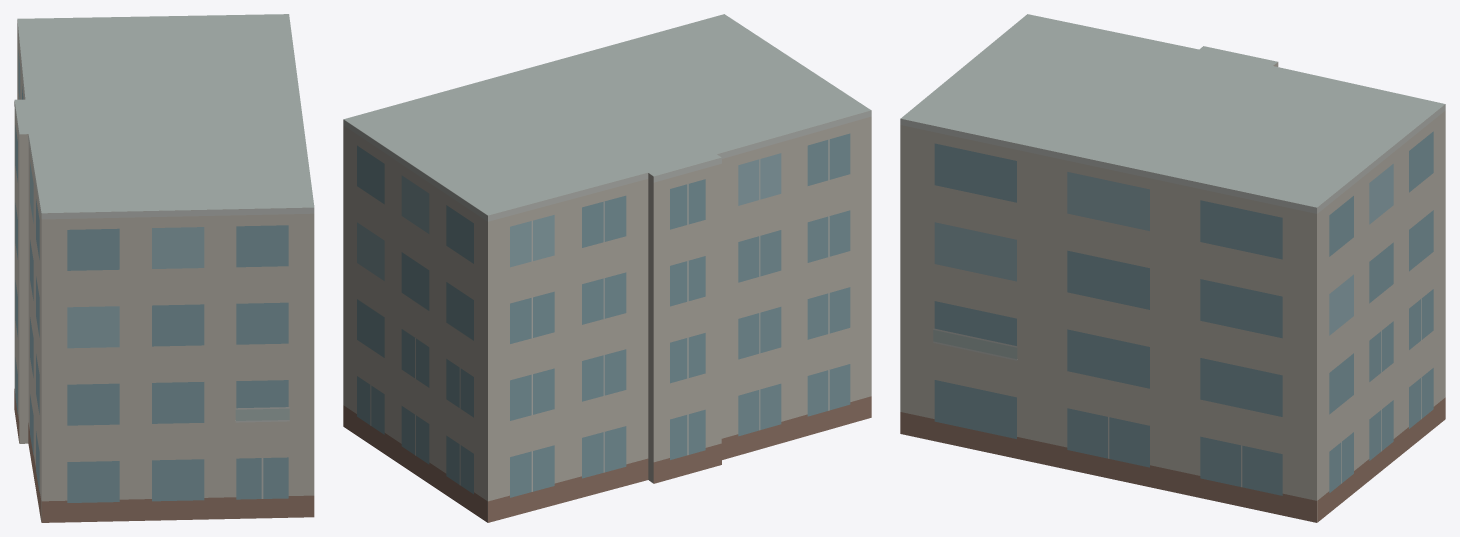
Rendered from survey-upis-32969960.glb.
The picture shows the model from 3 angles, left to right: view 1: azimuth 30°, elevation 25°; view 2: azimuth 150°, elevation 25°; view 3: azimuth 270°, elevation 25°; orthographic projection. The views are drawn at different scales.
Visible parts, largest first — view 1: survey-upis-32969960.tmp; view 2: survey-upis-32969960.tmp; view 3: survey-upis-32969960.tmp.
Boxes of the visible parts, box(x1,y1,x2,y2) form: survey-upis-32969960.tmp: box(14, 14, 314, 522); survey-upis-32969960.tmp: box(343, 14, 871, 522); survey-upis-32969960.tmp: box(900, 14, 1445, 522).
Bounding box in the file's own units: 16.08 × 12.2 × 19.13.
